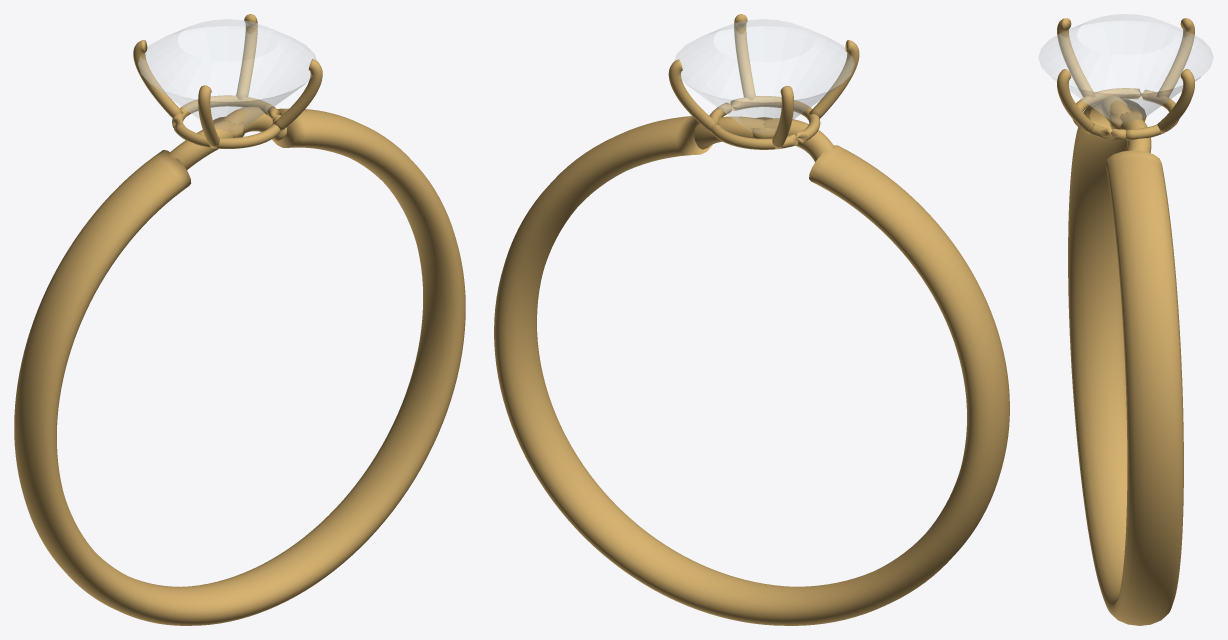
Rendered from bands-bypass.glb.
The picture shows the model from 3 angles, left to right: view 1: azimuth 30°, elevation 25°; view 2: azimuth 150°, elevation 25°; view 3: azimuth 270°, elevation 25°; orthographic projection. The views are drawn at different scales.
Visible parts, largest first — view 1: Band, Gem, Lower gallery, Prong.001, Prong, Bypass head bridge, Prong.003, Bypass head bridge.001, Prong.002; view 2: Band, Gem, Lower gallery, Bypass head bridge.001, Prong.002, Prong.003, Prong, Bypass head bridge, Prong.001; view 3: Band, Gem, Lower gallery, Prong.001, Prong.002, Prong, Prong.003, Bypass head bridge.001, Bypass head bridge.
Part boxes in pixels (<box>): Band: <box>14,108,465,625</box>; Gem: <box>138,19,316,132</box>; Lower gallery: <box>172,95,281,148</box>; Prong.001: <box>133,40,183,117</box>; Prong: <box>236,14,257,99</box>; Bypass head bridge: <box>169,120,235,169</box>; Prong.003: <box>272,59,322,132</box>; Bypass head bridge.001: <box>222,106,286,141</box>; Prong.002: <box>198,85,219,148</box>; Band: <box>494,115,1009,625</box>; Gem: <box>674,19,854,133</box>; Lower gallery: <box>709,96,820,149</box>; Bypass head bridge.001: <box>694,116,764,149</box>; Prong.002: <box>809,40,859,118</box>; Prong.003: <box>734,14,755,100</box>; Prong: <box>668,59,719,133</box>; Bypass head bridge: <box>763,118,834,162</box>; Prong.001: <box>772,86,793,149</box>; Band: <box>1068,98,1183,625</box>; Gem: <box>1038,14,1213,124</box>; Lower gallery: <box>1072,88,1179,140</box>; Prong.001: <box>1156,18,1194,97</box>; Prong.002: <box>1057,18,1095,97</box>; Prong: <box>1157,69,1194,133</box>; Prong.003: <box>1057,69,1094,133</box>; Bypass head bridge.001: <box>1119,112,1151,153</box>; Bypass head bridge: <box>1100,95,1131,122</box>.
Size of the model in its own units: 19.6 by 22.95 by 6.5.
